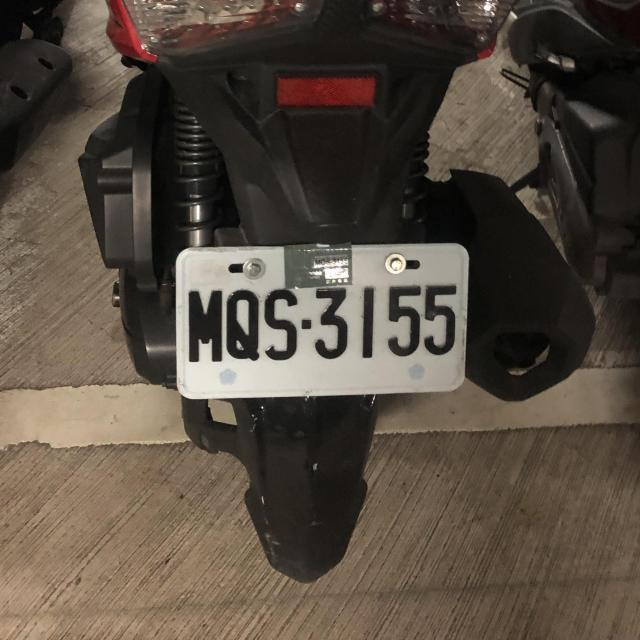W: (170, 234, 477, 401)
